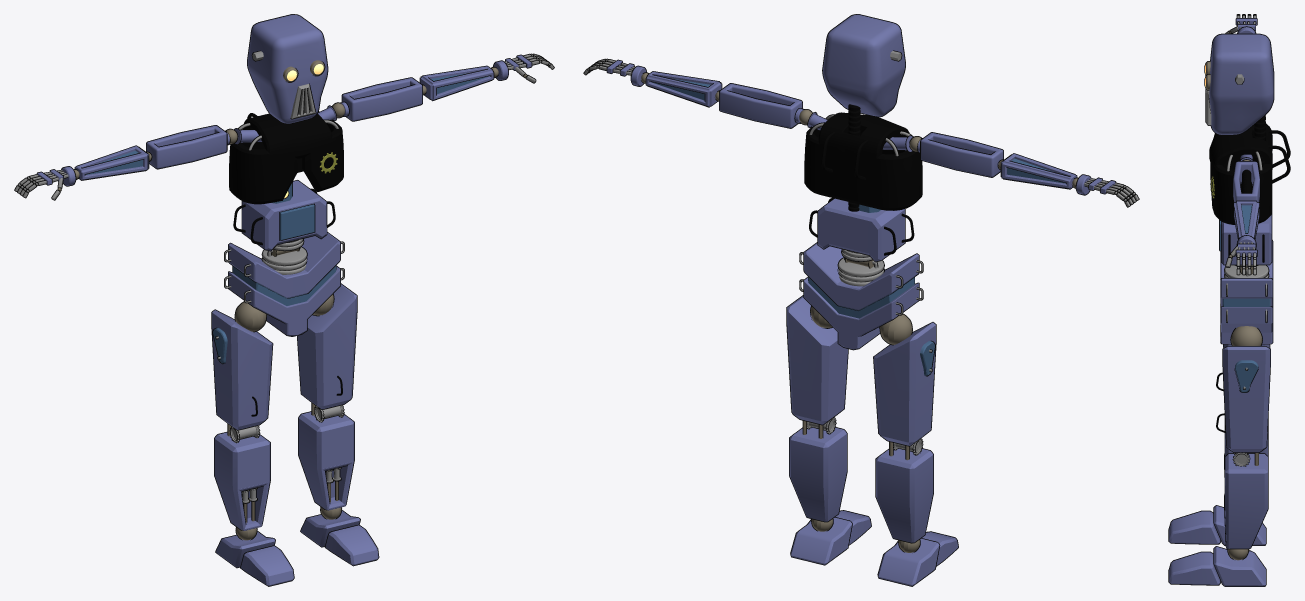
Rendered from Robot1L.fbx.
The picture shows the model from 3 angles, left to right: view 1: azimuth 30°, elevation 25°; view 2: azimuth 150°, elevation 25°; view 3: azimuth 270°, elevation 25°; orthographic projection. The views are drawn at different scales.
Visible parts, largest first — view 1: Circle; view 2: Circle; view 3: Circle.
Boxes of the visible parts, x1,y1,x2,y2 form: Circle: (14,14,554,586); Circle: (583,14,1139,586); Circle: (1168,14,1290,586).
Bounding box in the file's own units: 428 × 402 × 86.3.
